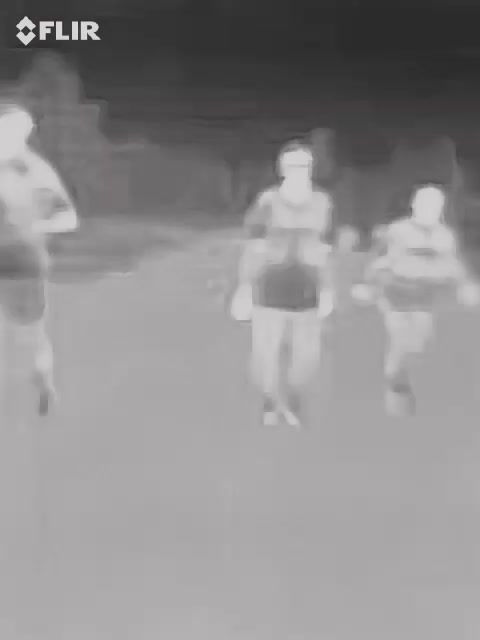head: (277, 138, 321, 195)
